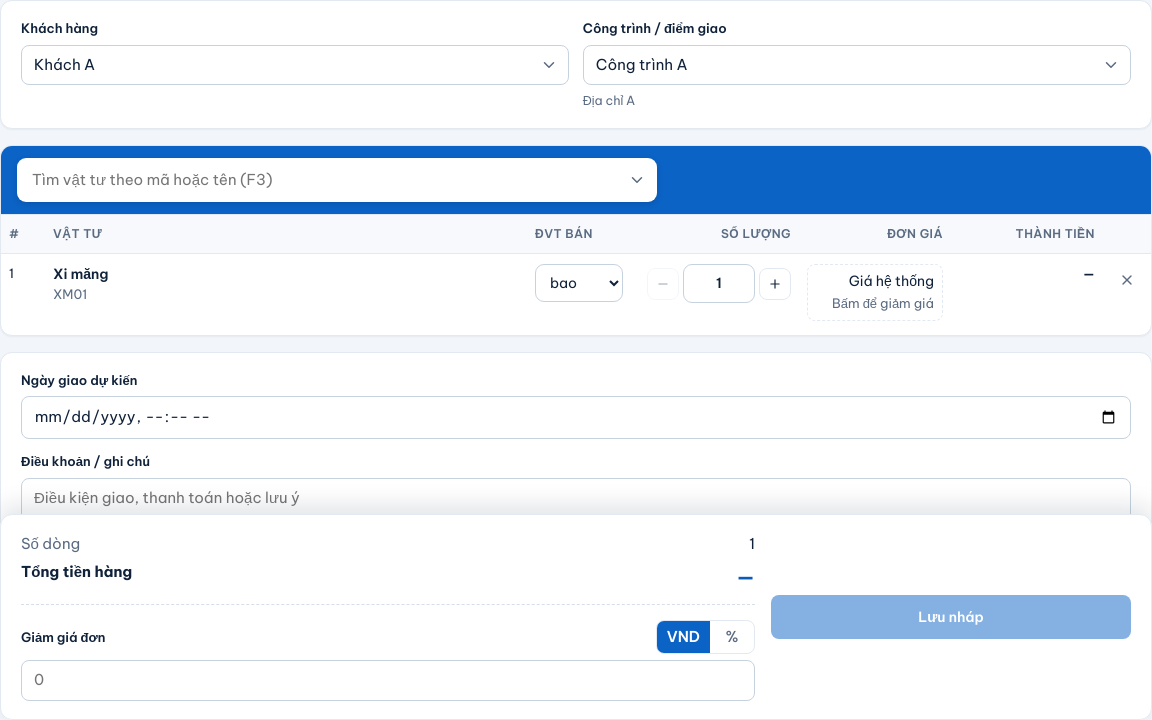
Test case: blocks invalid quantity 0 with a line error
Replace the text in the field named "Số lượng dòng 1" with "0" at (719, 284), box [683,264,755,303]
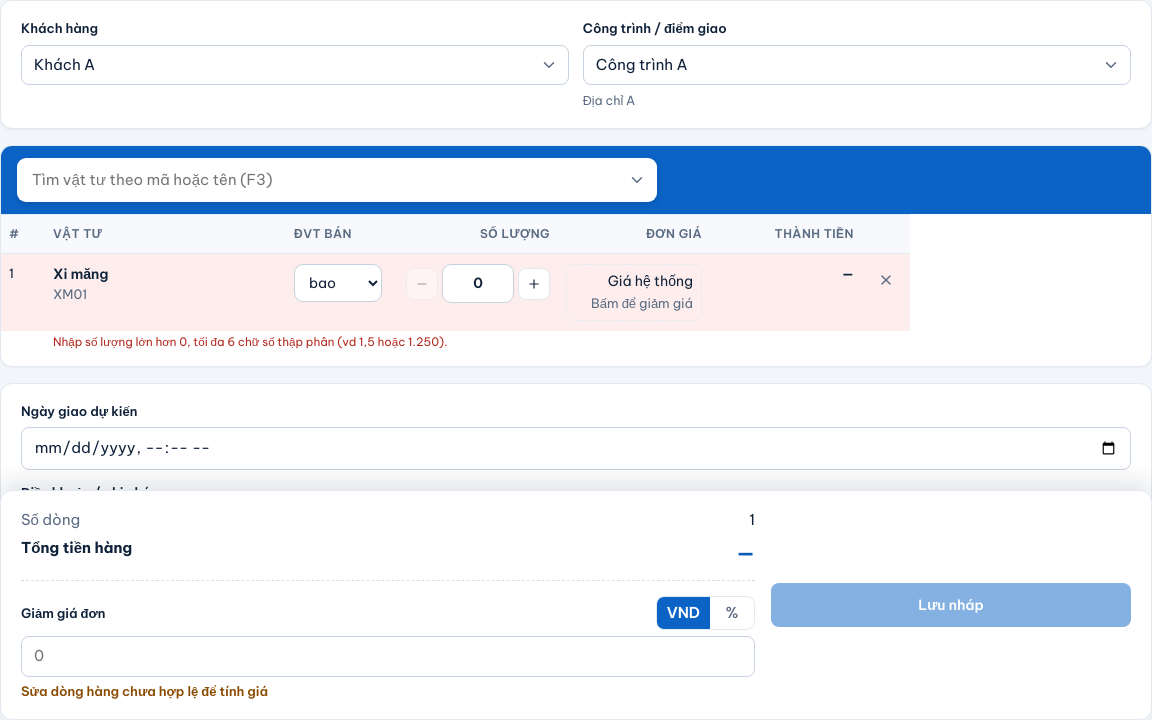
Expected: the button "Lưu nháp" is disabled, [771,583,1131,627]
Expected: the message shows "Nhập số lượng lớn hơn 0", [53,334,448,349]
